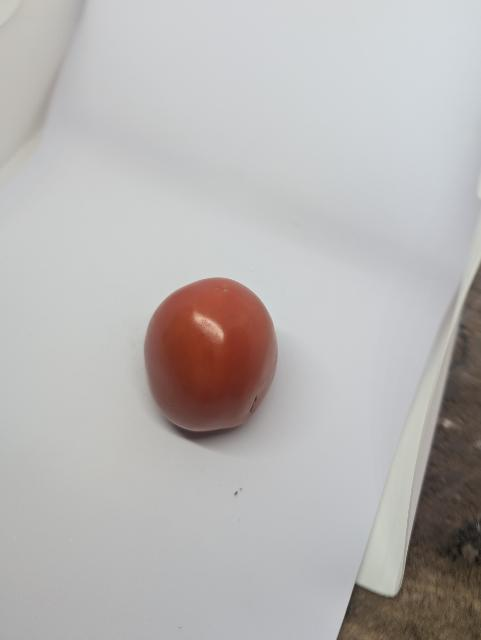red: (129, 264, 300, 456)
